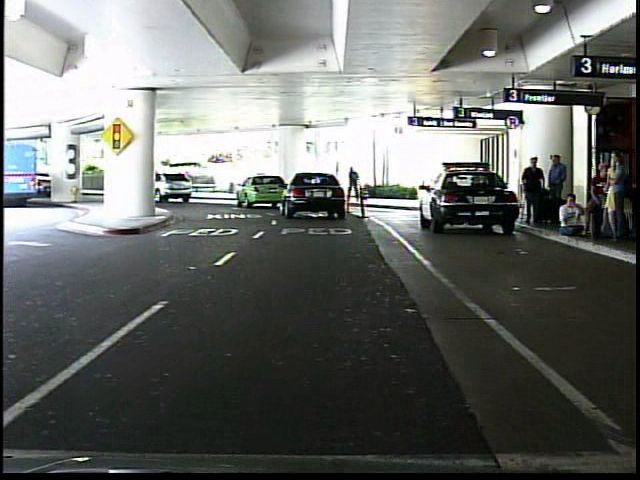person: (545, 149, 569, 229), (522, 152, 548, 223), (347, 163, 363, 205)
